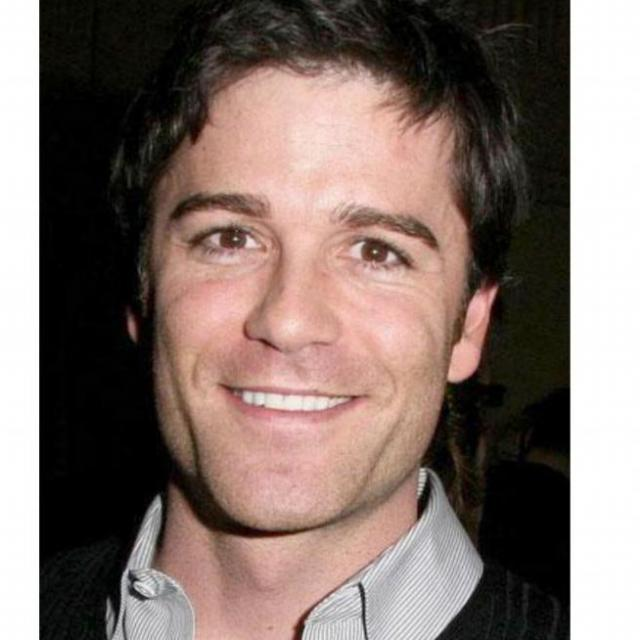live: (112, 15, 494, 537)
